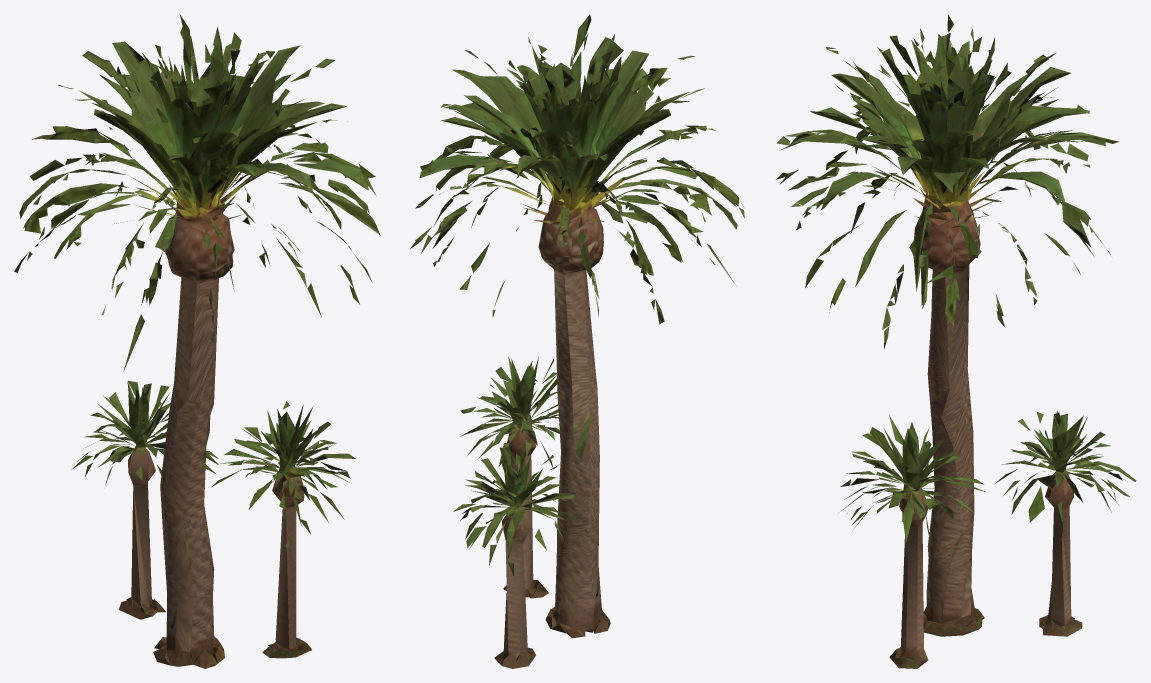
3 views of the same model, side by side, from view 1: azimuth 30°, elevation 25°; view 2: azimuth 150°, elevation 25°; view 3: azimuth 270°, elevation 25° (orthographic). The views are drawn at different scales.
Parts seen in each view (by area): view 1: palm; view 2: palm; view 3: palm.
Boxes of the visible parts, x1,y1,x2,y2 form: palm: (14,15,380,668); palm: (409,14,744,668); palm: (776,14,1136,668).
Bounding box in the file's own units: 0.9817 × 1.81 × 0.9943.
Materials: 1 (1 with a texture image).
